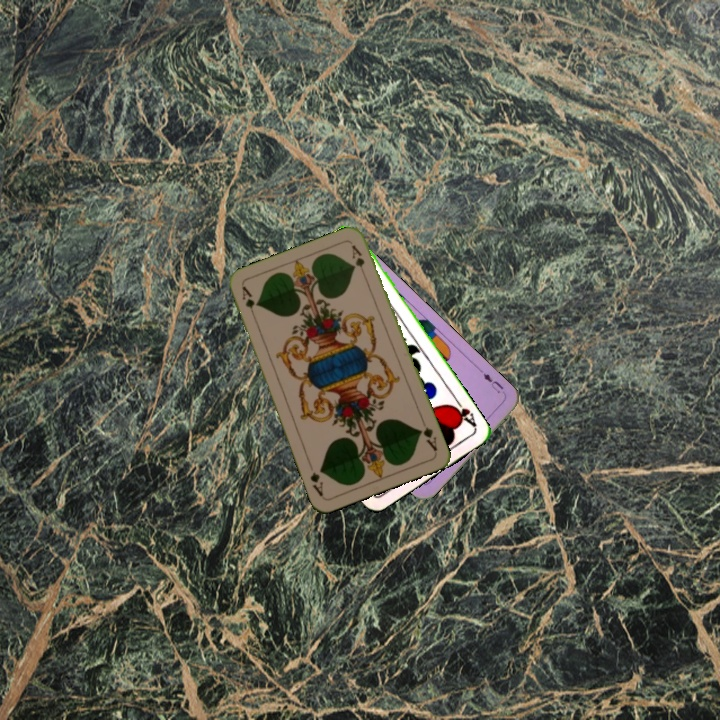EU: (479, 369, 508, 399)
GA: (415, 415, 440, 454), (238, 282, 259, 322)
HA: (446, 394, 480, 430)
